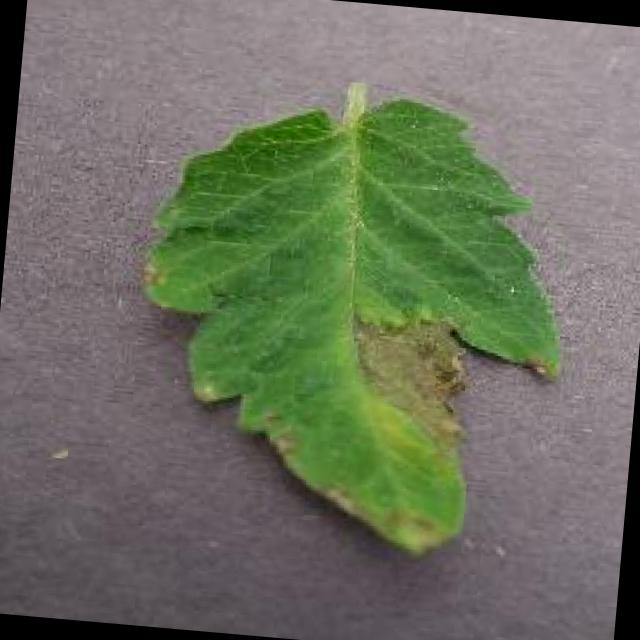Tomato_Late_Blight: (339, 284, 567, 456)
